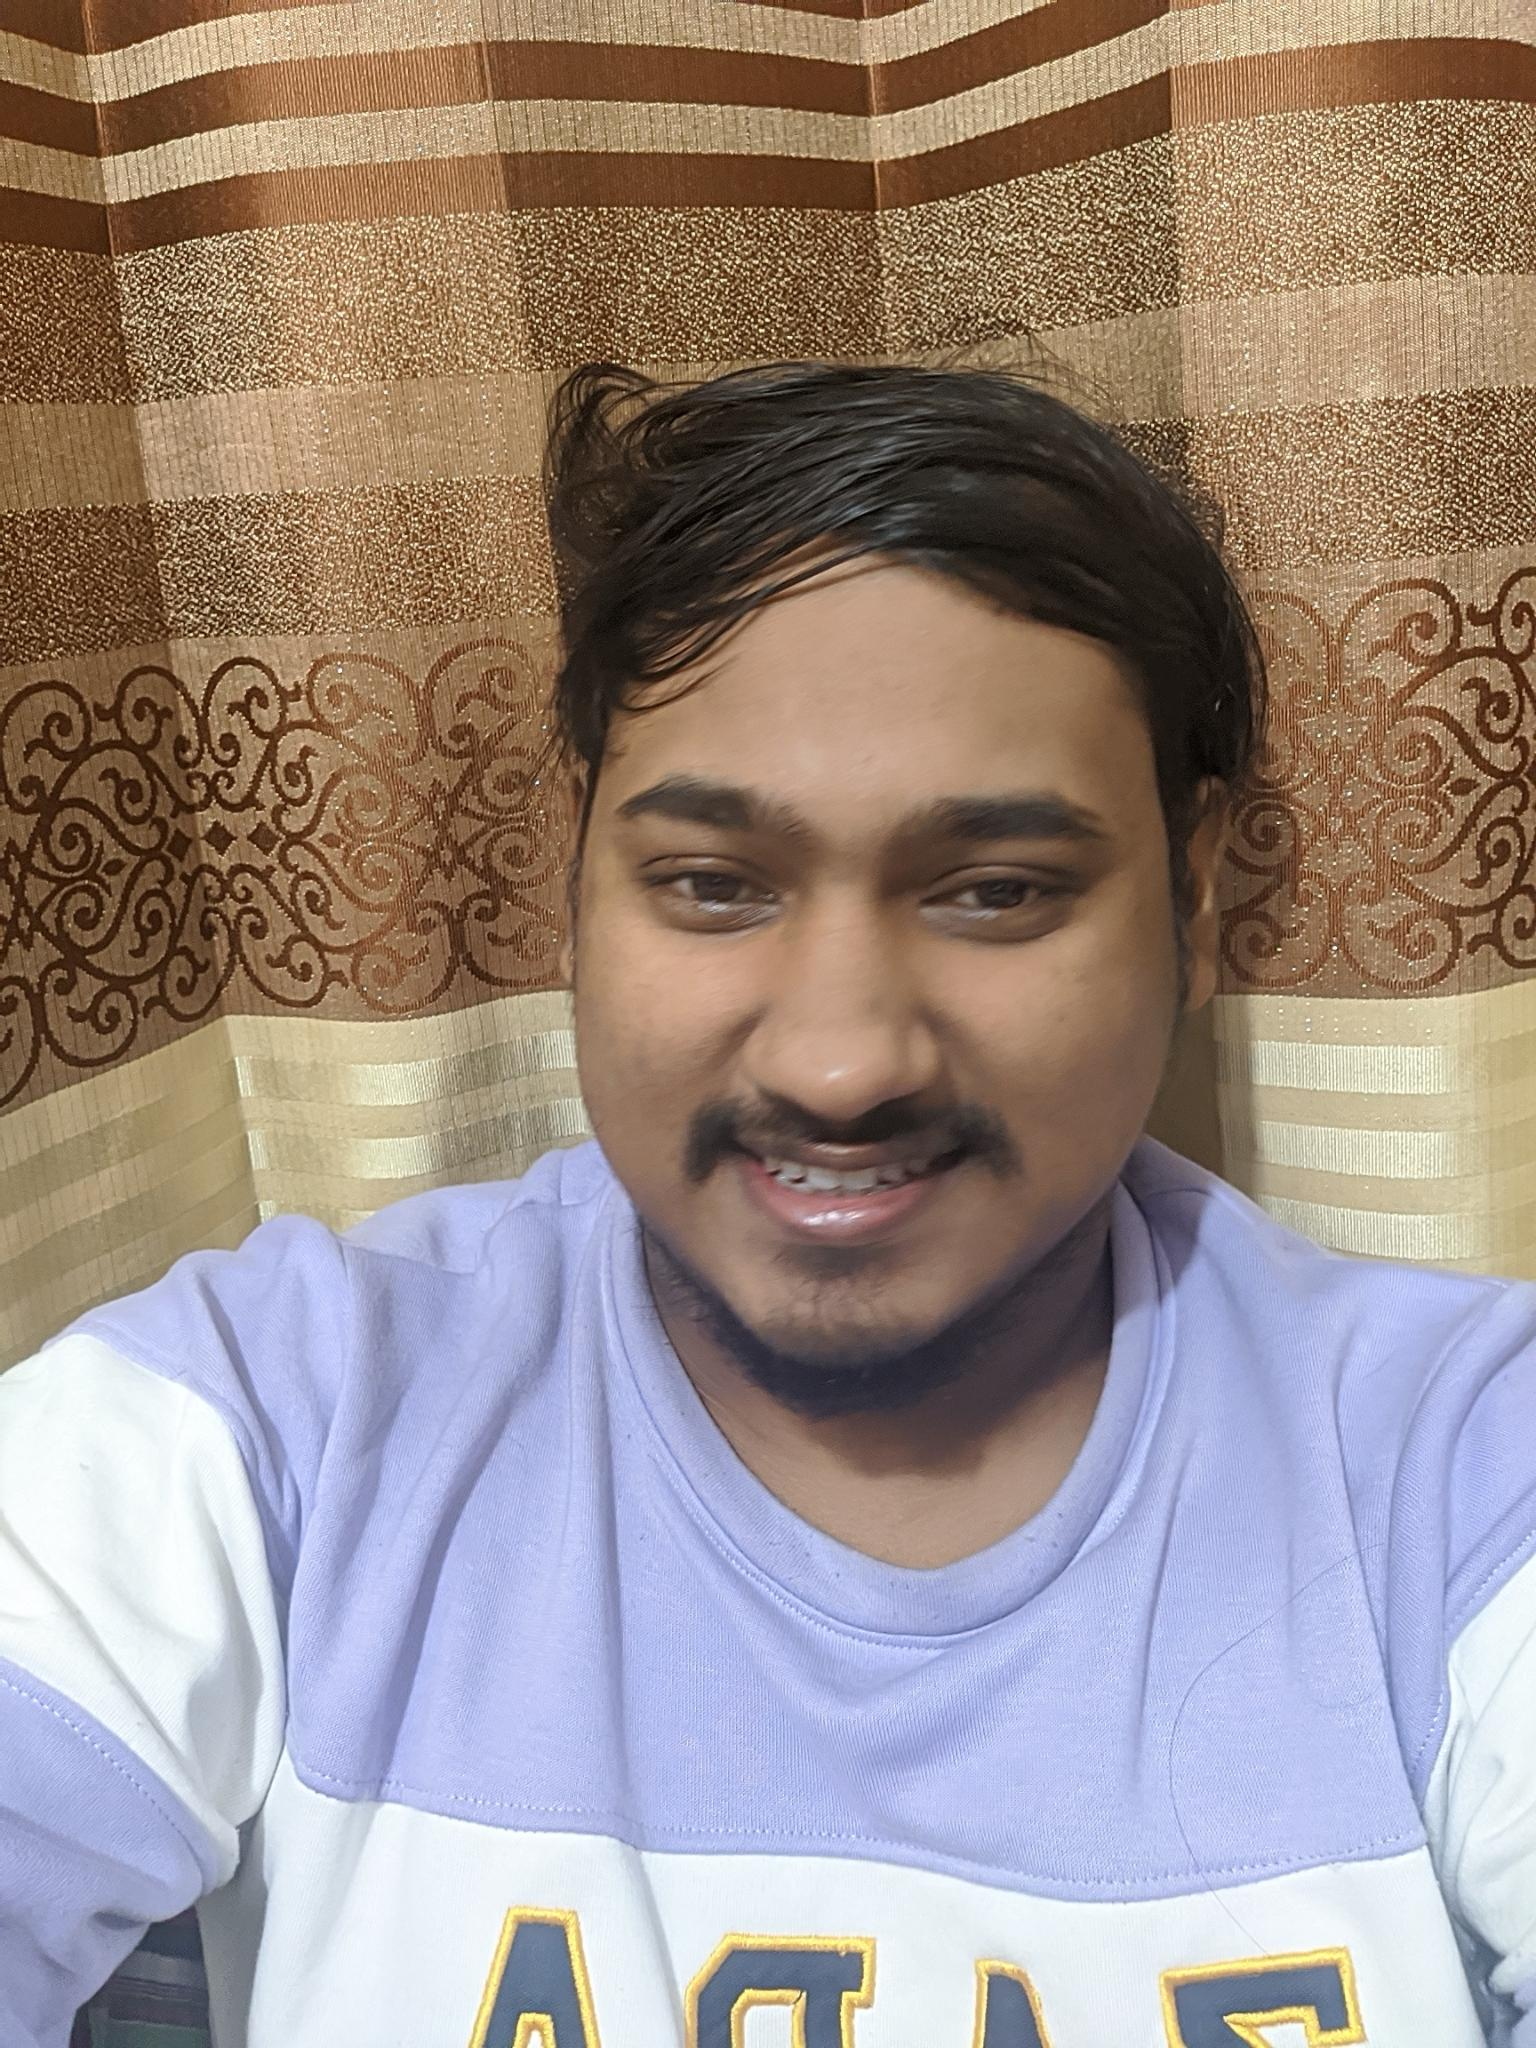Happy: (570, 668, 1173, 1393)
